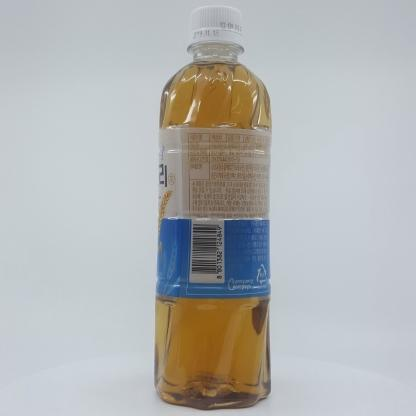------500ML: (154, 5, 272, 410)
